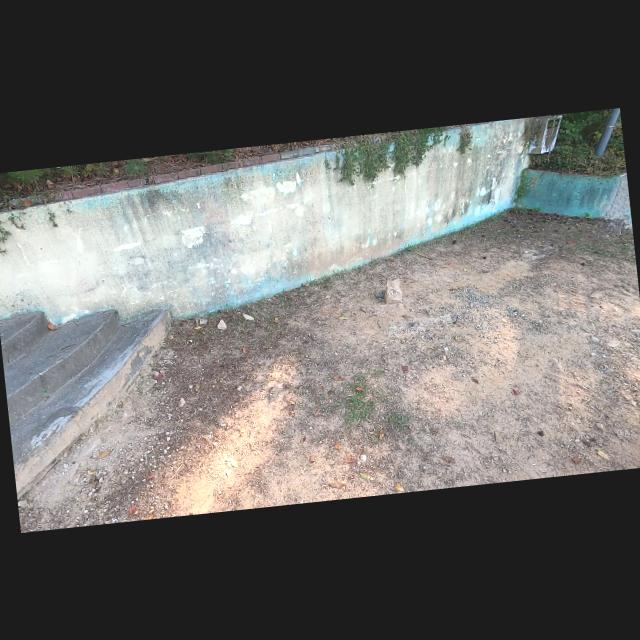trash: (380, 270, 404, 307)
